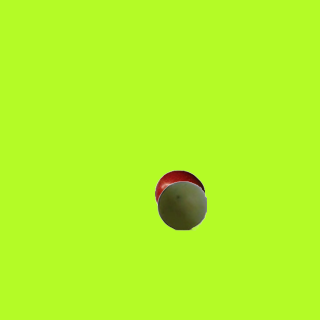Apple Braeburn: (154, 169, 204, 219)
Grape White 4: (156, 180, 206, 230)
